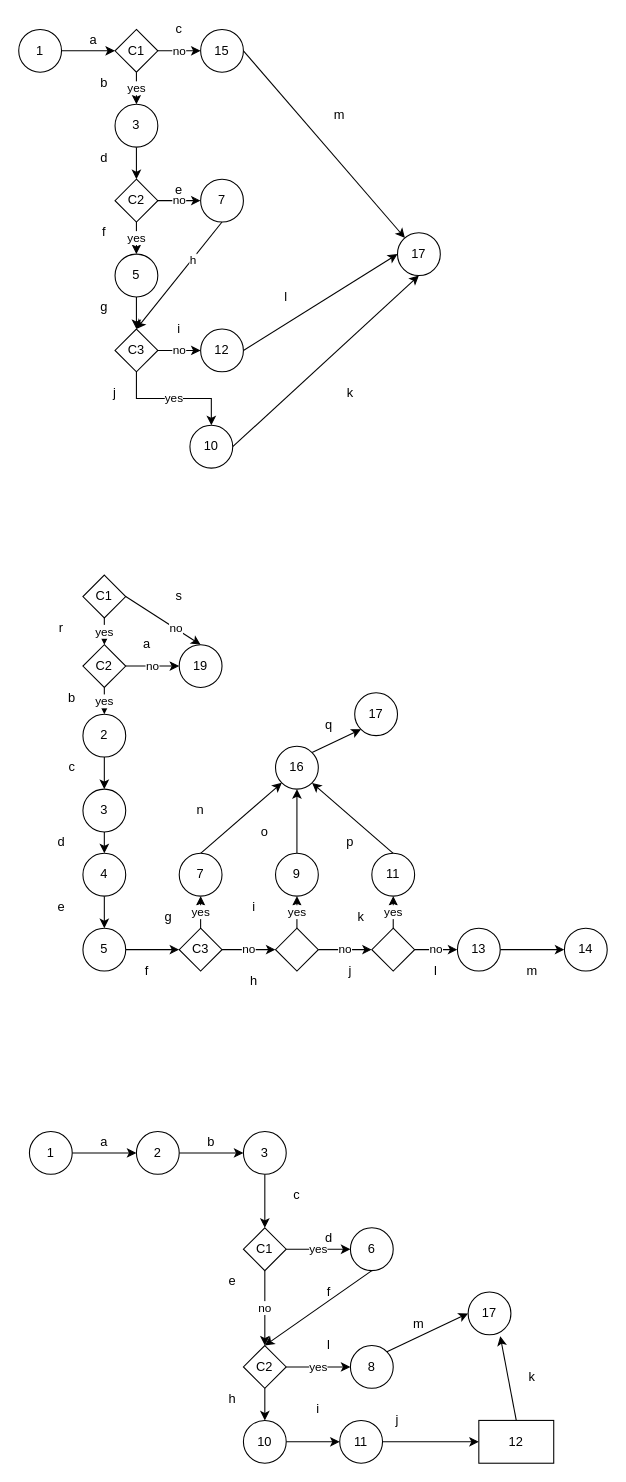
This 626x1482 diagram has some shape labels left out. The shapes that lost their labels are listed below. From the top down, each one's centre as x and y in pixels, then its label:
(296,949): C4
(393,949): C5
